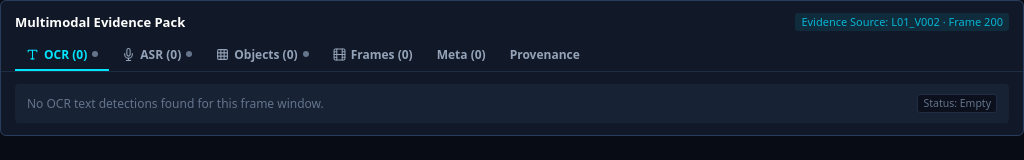
Test: T034 / T035 Evidence Rendering & Provenance UI › handles empty branches cleanly with explicit empty status without errors
This screenshot has width=1024, height=160.
Check: the text "No OCR text detections found for this frame window." is shown, box [27,95,324,112]
Note: ASR empty
Click the tab with test id "tab-evidence-asr": (157, 55) [111,40,203,71]
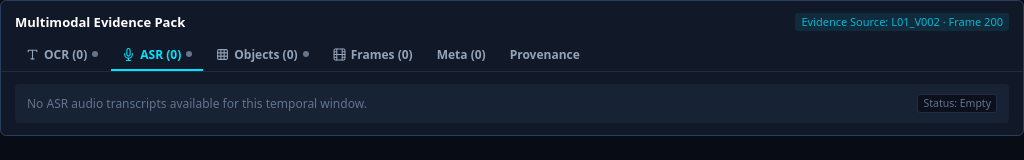
Check: the text "No ASR audio transcripts available for this temporal window." is shown, box [27,95,367,112]
Note: Objects empty
Click the tab with test id "tab-evidence-object": (262, 55) [205,40,320,71]
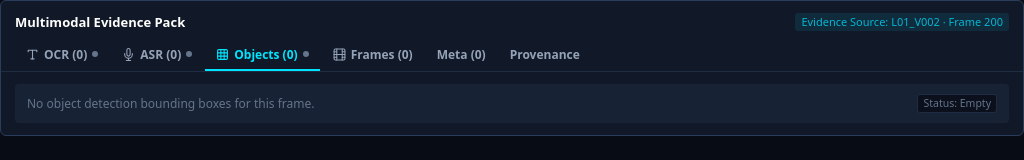
Check: the text "No object detection bounding boxes for this frame." is shown, box [27,95,314,112]
